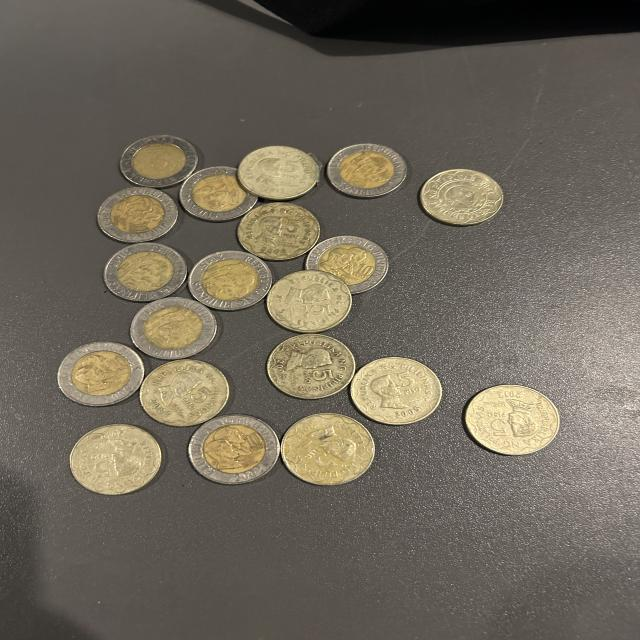5_Old_Back: (432, 173, 489, 219)
